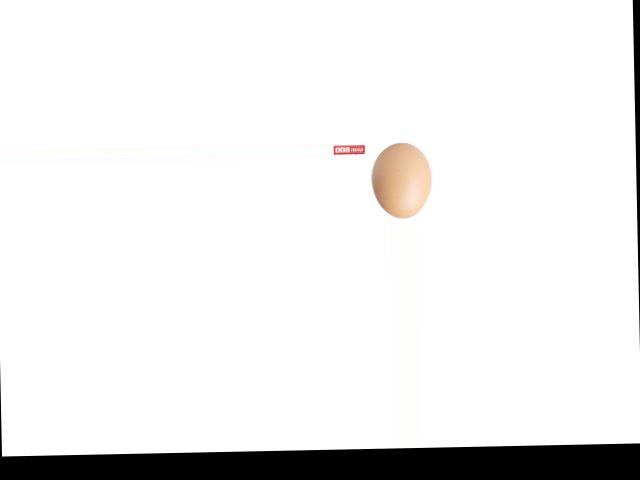egg: (371, 142, 432, 218)
